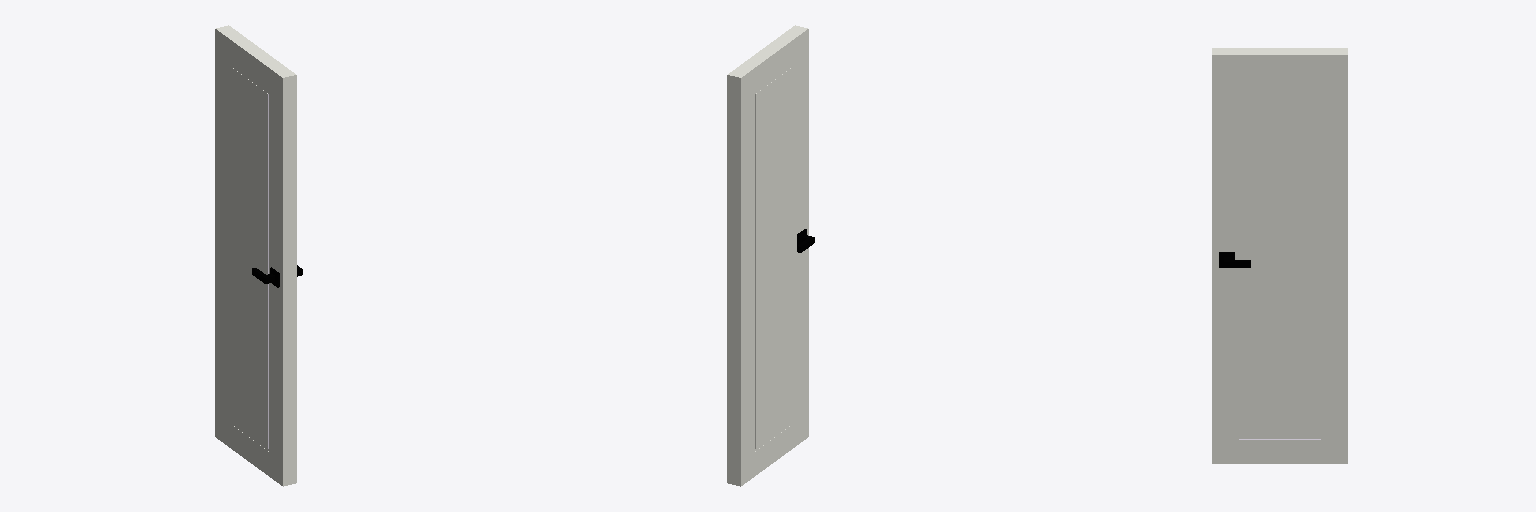
File: door603_lactic.obj
The picture shows the model from 3 angles: view 1: azimuth 30°, elevation 25°; view 2: azimuth 150°, elevation 25°; view 3: azimuth 270°, elevation 25°; orthographic projection.
Visible parts, largest first — view 1: Cube; view 2: Cube; view 3: Cube.
Part boxes in pixels (bbox=[...]): Cube: bbox=[215, 25, 302, 486]; Cube: bbox=[727, 25, 814, 486]; Cube: bbox=[1212, 48, 1347, 463].
Bounding box in the file's own units: 0.1899 × 2 × 0.5999.